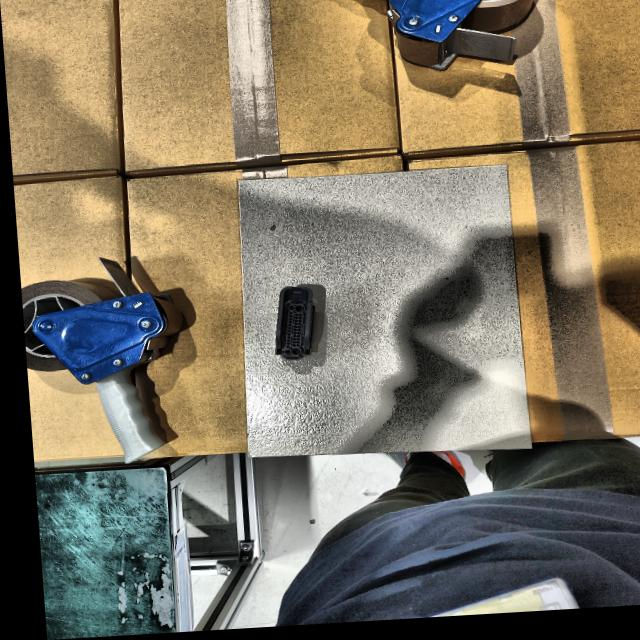P38: (270, 290, 310, 363)
